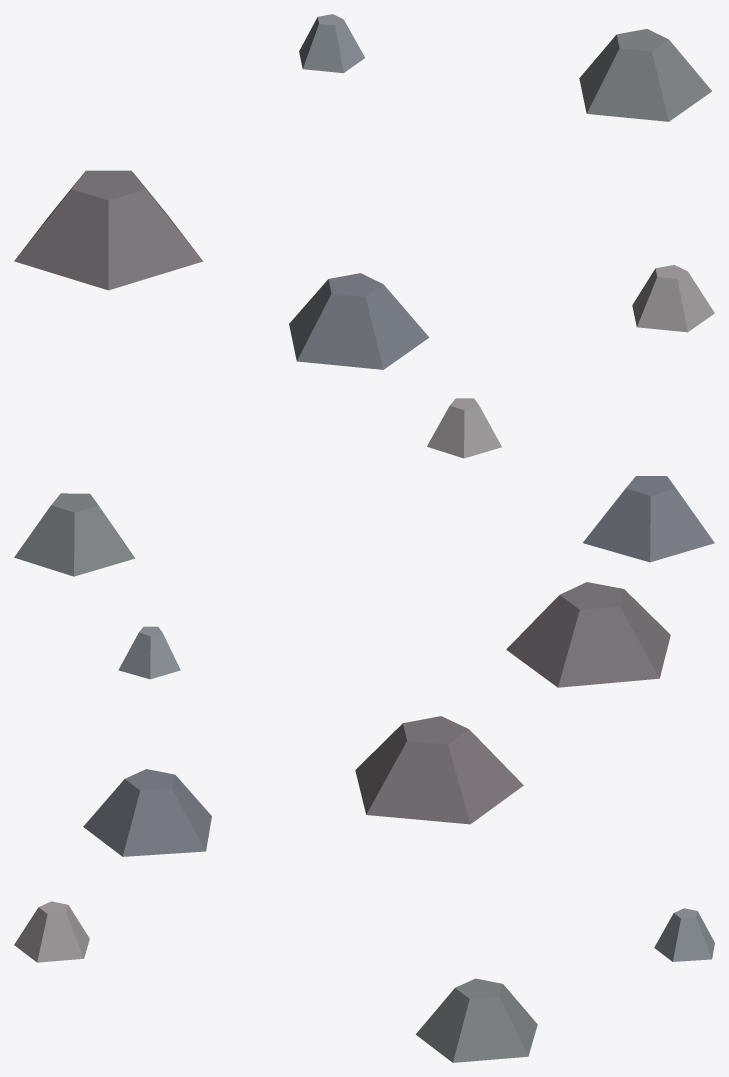
The model's file is Rocks_Round_s_03 5.fbx.
The picture shows the model from 3 angles, top to bottom: view 1: azimuth 30°, elevation 25°; view 2: azimuth 150°, elevation 25°; view 3: azimuth 270°, elevation 25°; orthographic projection. The views are drawn at different scales.
Visible parts, largest first — view 1: Rocks_Round_s_03; view 2: Rocks_Round_s_03; view 3: Rocks_Round_s_03.
Part boxes in pixels (box(x1,y1,x2,y2)): Rocks_Round_s_03: box(14, 14, 714, 369); Rocks_Round_s_03: box(14, 398, 714, 687); Rocks_Round_s_03: box(14, 716, 714, 1062).
Bounding box in the file's own units: 56.49 × 5.04 × 53.88.
